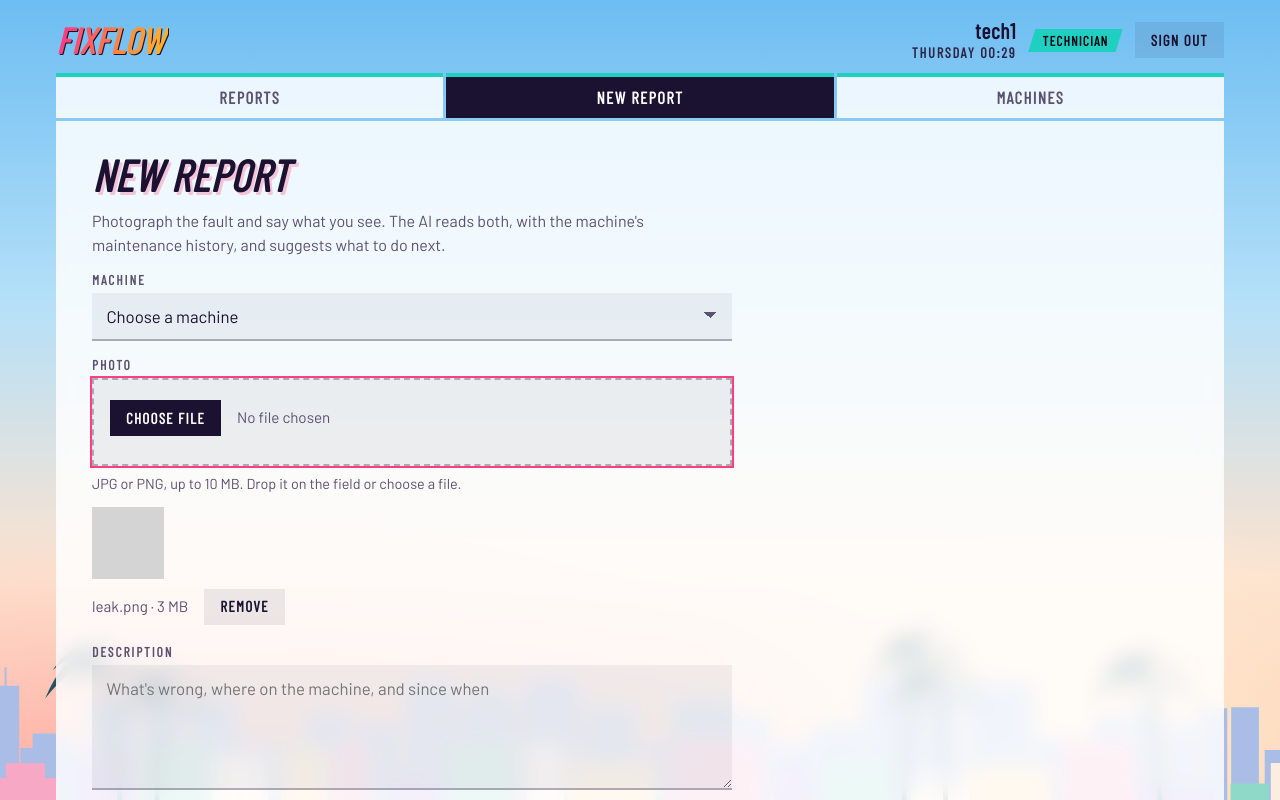
Test: new report page › previews the picked photo and can remove it
The width and height of the screenshot is (1280, 800).
Earlier steps of the test are not shown.
Check: the heading "New report" is shown, box [92,148,289,201]
Check: the text "leak.png · 3 MB" is shown, box [92,595,188,618]
Click the button "Remove" at (245, 606), box [204,588,285,624]
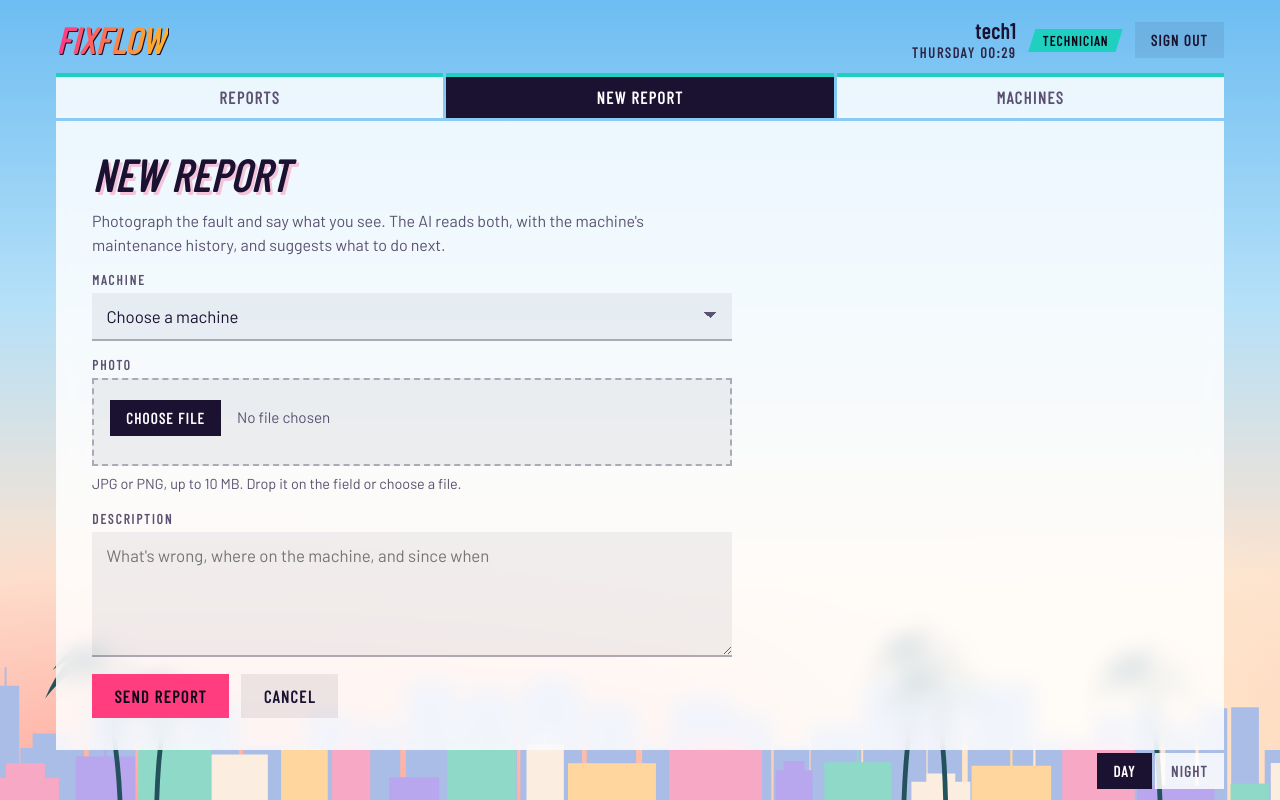
Check: the picture is gone
